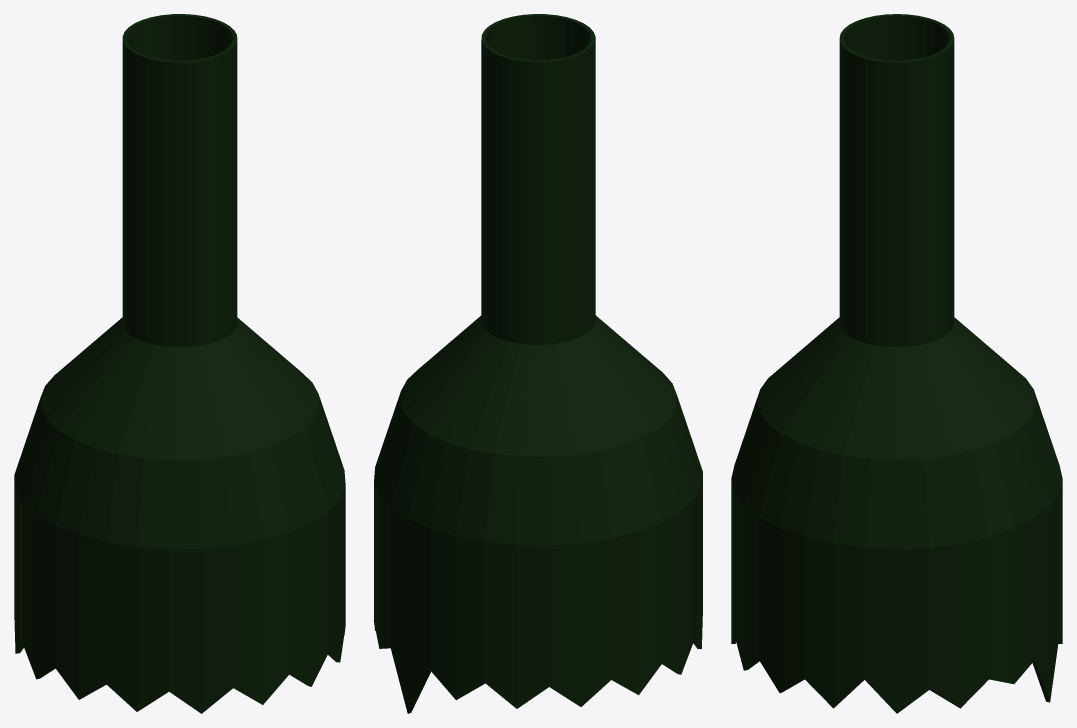
Rendered from Botella_vidrio_2.fbx.
3 renders of one model, left to right at view 1: azimuth 30°, elevation 25°; view 2: azimuth 150°, elevation 25°; view 3: azimuth 270°, elevation 25°, orthographic.
Parts seen in each view (by area): view 1: Cilindro.001; view 2: Cilindro.001; view 3: Cilindro.001.
Boxes of the visible parts, x1,y1,x2,y2 form: Cilindro.001: [14, 14, 345, 713]; Cilindro.001: [374, 14, 702, 713]; Cilindro.001: [731, 14, 1062, 713].
Bounding box in the file's own units: 7.5 × 15.91 × 7.5.
